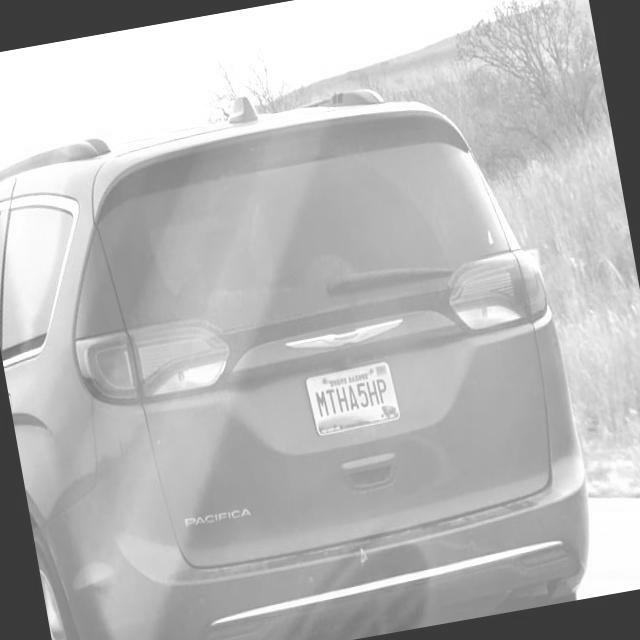LicensePlate: (303, 360, 401, 435)
